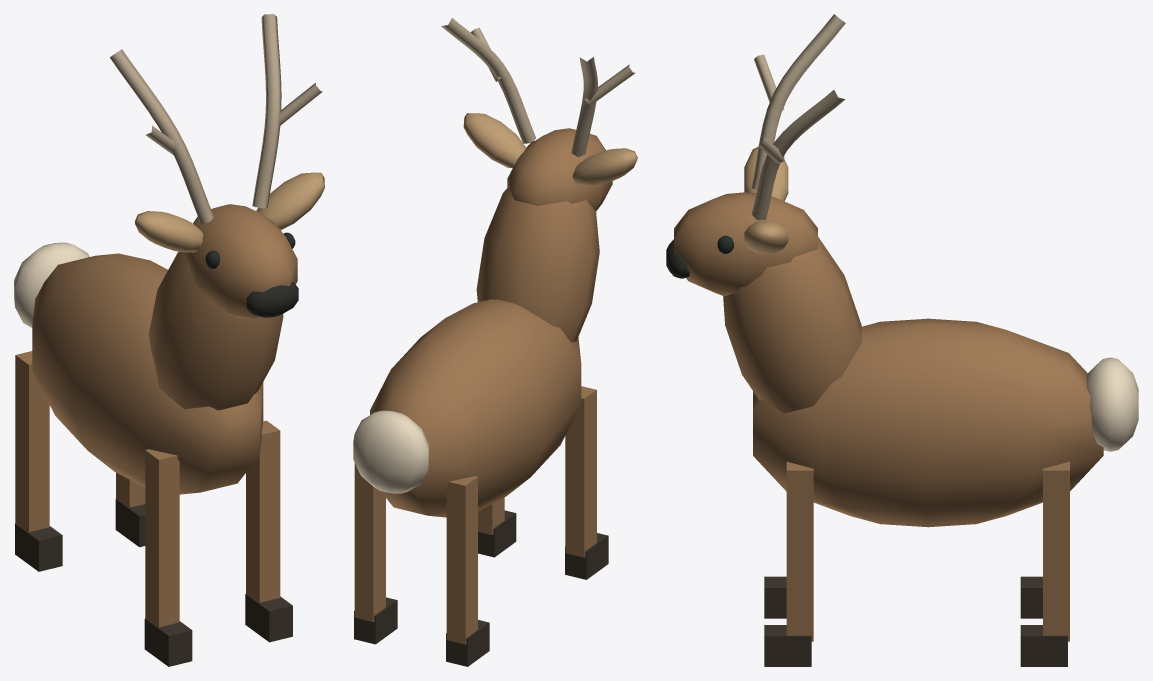
File: Deer.glb
The picture shows the model from 3 angles, left to right: view 1: azimuth 30°, elevation 25°; view 2: azimuth 150°, elevation 25°; view 3: azimuth 270°, elevation 25°; orthographic projection. The views are drawn at different scales.
Bounding box in the file's own units: 0.32 × 0.9569 × 0.6999.
